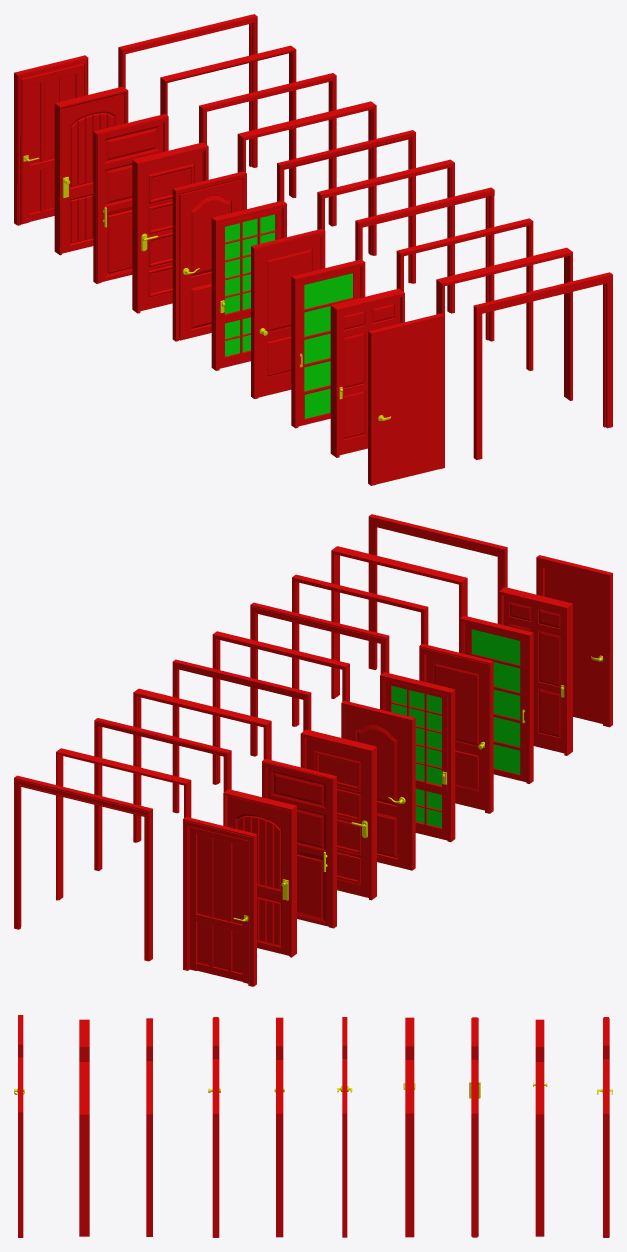
Rendered from doorways_grp.fbx.
The picture shows the model from 3 angles, top to bottom: view 1: azimuth 30°, elevation 25°; view 2: azimuth 150°, elevation 25°; view 3: azimuth 270°, elevation 25°; orthographic projection. The views are drawn at different scales.
Visible parts, largest first — view 1: doorway_door_1, doorway_door_4, doorway_door_10, doorway_door_6, doorway_door_7, doorway_door_3, doorway_door_5, doorway_door_9, doorway_door_8, doorway_door_2, doorway_double_1, doorway_1 (+18 smaller); view 2: doorway_door_10, doorway_door_3, doorway_door_5, doorway_door_9, doorway_door_7, doorway_door_8, doorway_door_2, doorway_door_6, doorway_door_1, doorway_door_4, doorway_double_10, doorway_double_1 (+18 smaller); view 3: doorway_double_2, doorway_double_7, doorway_double_9, doorway_double_4, doorway_double_8, doorway_double_5, doorway_double_10, doorway_double_3, doorway_double_1, doorway_double_6, doorway_2, doorway_7 (+4 smaller).
Boxes of the visible parts, bbox=[...] form: doorway_door_1: bbox=[376, 324, 439, 484]; doorway_door_4: bbox=[258, 237, 320, 397]; doorway_door_10: bbox=[21, 64, 83, 224]; doorway_door_6: bbox=[179, 179, 242, 340]; doorway_door_7: bbox=[140, 151, 202, 311]; doorway_door_3: bbox=[298, 267, 360, 426]; doorway_door_5: bbox=[219, 209, 281, 368]; doorway_door_9: bbox=[62, 93, 123, 253]; doorway_door_8: bbox=[101, 122, 163, 282]; doorway_door_2: bbox=[339, 297, 400, 455]; doorway_double_1: bbox=[473, 272, 612, 459]; doorway_1: bbox=[368, 313, 444, 485]; doorway_door_10: bbox=[189, 828, 248, 983]; doorway_door_3: bbox=[464, 623, 526, 781]; doorway_door_5: bbox=[385, 680, 447, 840]; doorway_door_9: bbox=[227, 796, 289, 955]; doorway_door_7: bbox=[306, 738, 368, 897]; doorway_door_8: bbox=[267, 767, 328, 926]; doorway_door_2: bbox=[503, 595, 564, 753]; doorway_door_6: bbox=[345, 709, 407, 869]; doorway_door_1: bbox=[544, 568, 603, 723]; doorway_door_4: bbox=[426, 655, 484, 810]; doorway_double_10: bbox=[14, 775, 152, 961]; doorway_double_1: bbox=[368, 514, 507, 669]; doorway_double_2: bbox=[79, 1062, 89, 1236]; doorway_double_7: bbox=[405, 1060, 414, 1237]; doorway_double_9: bbox=[535, 1062, 544, 1236]; doorway_double_4: bbox=[212, 1059, 219, 1237]; doorway_double_8: bbox=[471, 1059, 478, 1237]; doorway_double_5: bbox=[276, 1060, 283, 1237]; doorway_double_10: bbox=[603, 1059, 609, 1237]; doorway_double_3: bbox=[146, 1061, 152, 1236]; doorway_double_1: bbox=[18, 1057, 23, 1237]; doorway_double_6: bbox=[342, 1059, 347, 1237]; doorway_2: bbox=[79, 1019, 89, 1061]; doorway_7: bbox=[405, 1017, 414, 1059].
Bounding box in the file's own units: 353 × 213 × 921.
